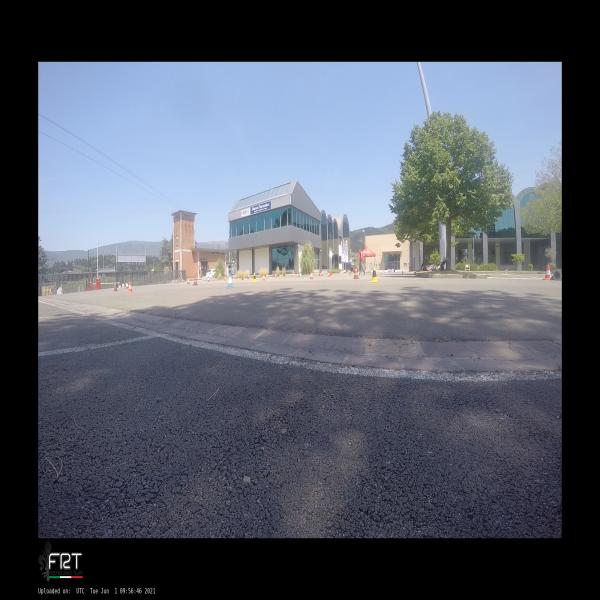blue_cone: (225, 273, 235, 288), (299, 272, 302, 278), (266, 274, 268, 279)
large_orange_cone: (352, 266, 360, 279), (193, 276, 198, 286), (247, 272, 249, 279)
orange_cone: (543, 266, 551, 280), (126, 281, 134, 293), (261, 273, 266, 282), (186, 277, 191, 284), (310, 271, 314, 279), (206, 276, 210, 282), (318, 272, 322, 276), (328, 272, 332, 276), (358, 270, 360, 278), (224, 275, 227, 280), (126, 282, 128, 289), (382, 269, 384, 275), (296, 273, 298, 278), (294, 272, 296, 277), (182, 278, 183, 283)
unknown_cone: (550, 270, 562, 280), (113, 282, 118, 292), (242, 274, 244, 280), (274, 274, 277, 278), (401, 270, 404, 274), (349, 271, 352, 275)
yellow_cone: (370, 266, 379, 282), (252, 272, 257, 283)
